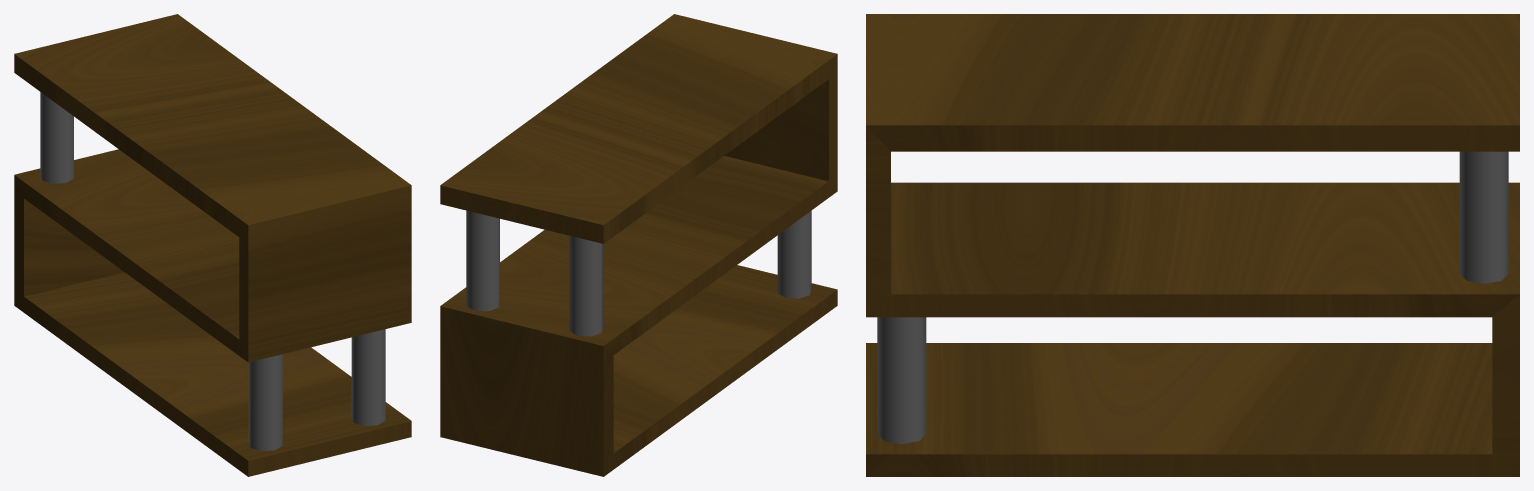
The model's file is RS_bedside_table.fbx.
The picture shows the model from 3 angles, left to right: view 1: azimuth 30°, elevation 25°; view 2: azimuth 150°, elevation 25°; view 3: azimuth 270°, elevation 25°; orthographic projection. The views are drawn at different scales.
Parts seen in each view (by area): view 1: RS_bedside_table; view 2: RS_bedside_table; view 3: RS_bedside_table.
Boxes of the visible parts, x1=… form: RS_bedside_table: x1=14, y1=14, x2=411, y2=476; RS_bedside_table: x1=440, y1=14, x2=837, y2=476; RS_bedside_table: x1=866, y1=14, x2=1519, y2=476.
Size of the model in its own units: 51.88 by 76.32 by 129.
